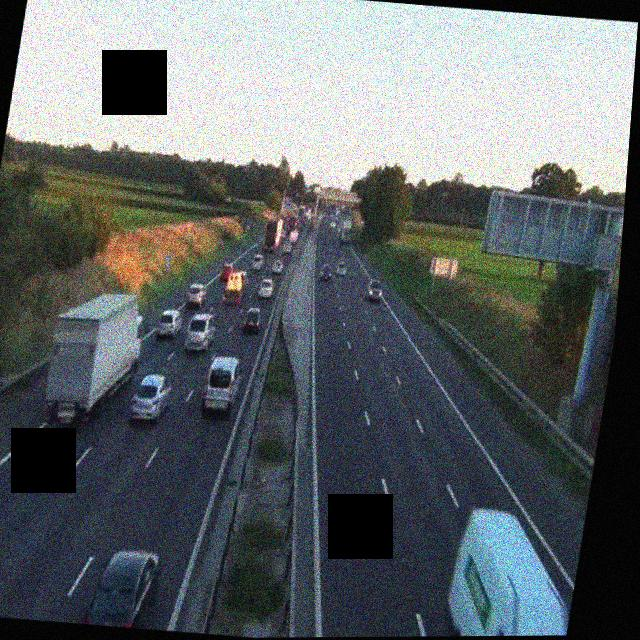car: (82, 545, 163, 630), (201, 354, 243, 415), (128, 372, 174, 423), (183, 311, 217, 353), (154, 307, 184, 338), (241, 299, 266, 333), (183, 282, 207, 308), (365, 280, 385, 301), (256, 276, 275, 297), (319, 262, 332, 281), (270, 257, 284, 274), (250, 255, 263, 270), (335, 260, 347, 275), (283, 241, 292, 254)
truck: (440, 505, 585, 636), (37, 288, 149, 429), (219, 267, 247, 306), (262, 214, 283, 252), (338, 219, 353, 244)
